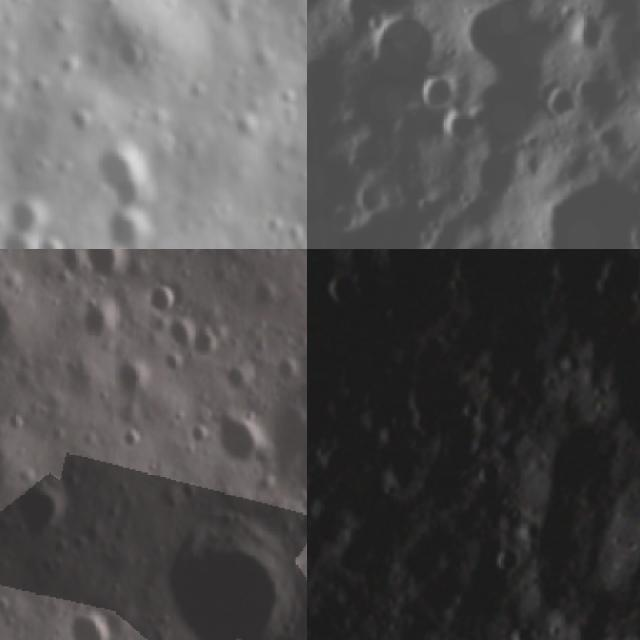crater: (307, 33, 511, 249), (165, 507, 307, 640), (384, 352, 508, 476), (531, 167, 640, 249), (260, 359, 307, 520), (578, 249, 640, 313), (17, 476, 75, 542), (98, 148, 154, 208), (213, 411, 270, 469), (318, 257, 369, 312), (0, 191, 52, 244), (483, 532, 532, 586), (469, 446, 518, 500), (0, 283, 32, 362), (102, 34, 156, 76), (442, 103, 482, 159), (103, 206, 154, 249), (66, 601, 120, 640), (414, 68, 454, 119), (82, 304, 127, 344), (352, 175, 392, 219), (86, 249, 137, 281), (571, 12, 608, 55), (538, 84, 578, 121), (116, 359, 152, 398), (500, 611, 547, 640), (0, 437, 20, 504), (65, 99, 98, 139), (148, 282, 185, 316), (191, 324, 225, 359), (117, 423, 151, 456), (53, 249, 90, 279), (272, 353, 306, 384), (255, 278, 284, 312), (222, 359, 250, 394), (186, 419, 213, 448), (180, 475, 205, 502), (170, 319, 195, 346), (162, 349, 189, 374), (38, 229, 67, 249), (296, 508, 307, 551), (307, 436, 317, 475), (242, 249, 268, 256)
